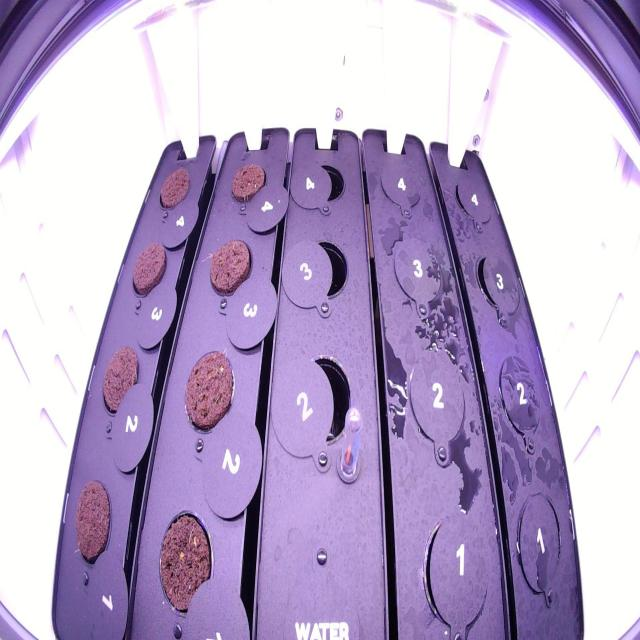empty_pod: (418, 504, 493, 627), (287, 344, 355, 471), (408, 338, 468, 468), (512, 481, 566, 606), (388, 223, 447, 316), (494, 346, 546, 445), (296, 227, 351, 314), (371, 140, 425, 218), (475, 243, 525, 326), (451, 166, 498, 235), (303, 148, 347, 212)
pod: (151, 502, 220, 620), (180, 340, 238, 440), (69, 464, 115, 573), (97, 335, 144, 420), (204, 233, 256, 302), (128, 232, 168, 299), (227, 150, 270, 208), (155, 160, 193, 220)
